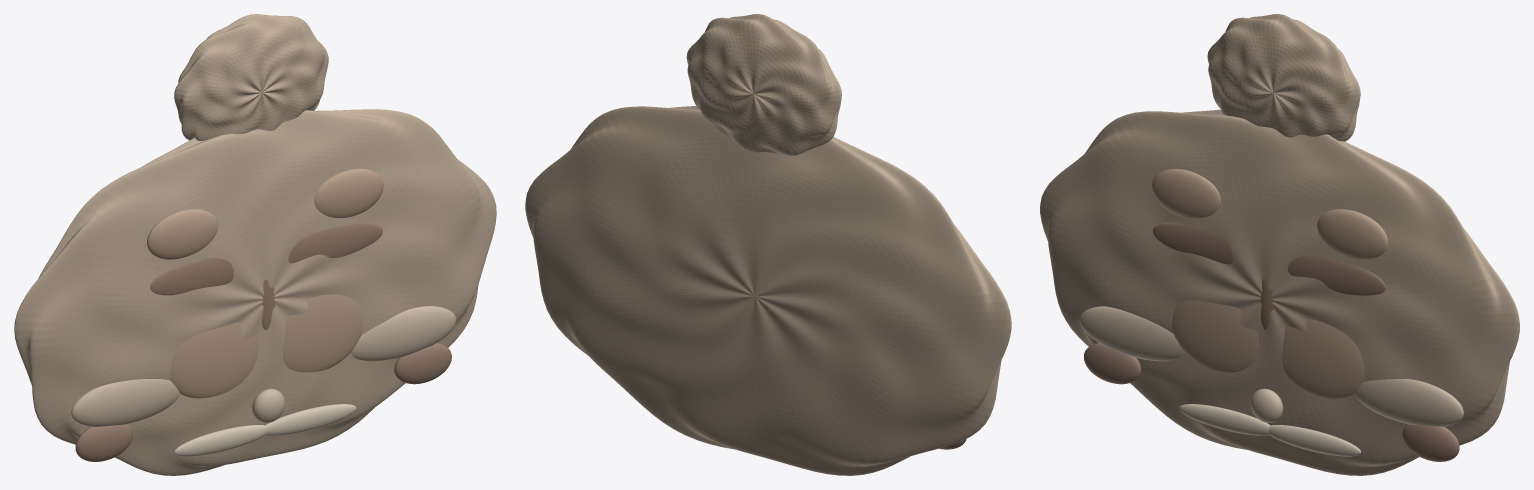
Rendered from 05_horizontal_sections.glb.
The picture shows the model from 3 angles, left to right: view 1: azimuth 30°, elevation 25°; view 2: azimuth 150°, elevation 25°; view 3: azimuth 330°, elevation 25°; orthographic projection.
Visible parts, largest first — view 1: Horizontal cortical section, Cerebellum, Thalamus -1, Thalamus 1, Hippocampus -1, Hippocampus 1, Caudate nucleus -1, Caudate nucleus 1, Lateral ventricle 1, Lateral ventricle -1, Amygdala -1, Optic tract -1 (+3 smaller); view 2: Horizontal cortical section, Cerebellum; view 3: Horizontal cortical section, Cerebellum, Thalamus 1, Thalamus -1, Hippocampus 1, Hippocampus -1, Caudate nucleus 1, Caudate nucleus -1, Lateral ventricle 1, Lateral ventricle -1, Amygdala 1, Optic tract 1 (+3 smaller).
Part boxes in pixels (box(x1,y1,x2,y2)): Horizontal cortical section: box(14, 109, 496, 475); Cerebellum: box(174, 14, 328, 140); Thalamus -1: box(170, 322, 259, 398); Thalamus 1: box(283, 294, 363, 372); Hippocampus -1: box(71, 379, 180, 426); Hippocampus 1: box(351, 306, 455, 361); Caudate nucleus -1: box(147, 209, 218, 259); Caudate nucleus 1: box(314, 168, 383, 217); Lateral ventricle 1: box(288, 222, 382, 263); Lateral ventricle -1: box(150, 258, 233, 295); Amygdala -1: box(75, 424, 132, 461); Optic tract -1: box(174, 425, 266, 456); Horizontal cortical section: box(525, 105, 1011, 475); Cerebellum: box(686, 14, 841, 155); Horizontal cortical section: box(1040, 109, 1519, 475); Cerebellum: box(1207, 14, 1360, 141); Thalamus 1: box(1282, 319, 1364, 399); Thalamus -1: box(1172, 300, 1258, 372); Hippocampus 1: box(1355, 379, 1463, 426); Hippocampus -1: box(1079, 306, 1184, 361); Caudate nucleus 1: box(1317, 209, 1387, 259); Caudate nucleus -1: box(1152, 169, 1220, 218); Lateral ventricle 1: box(1287, 256, 1385, 295); Lateral ventricle -1: box(1153, 222, 1232, 264); Amygdala 1: box(1402, 424, 1459, 461); Optic tract 1: box(1268, 425, 1361, 456).
Size of the model in its own units: 3.38 by 2.97 by 0.404.
